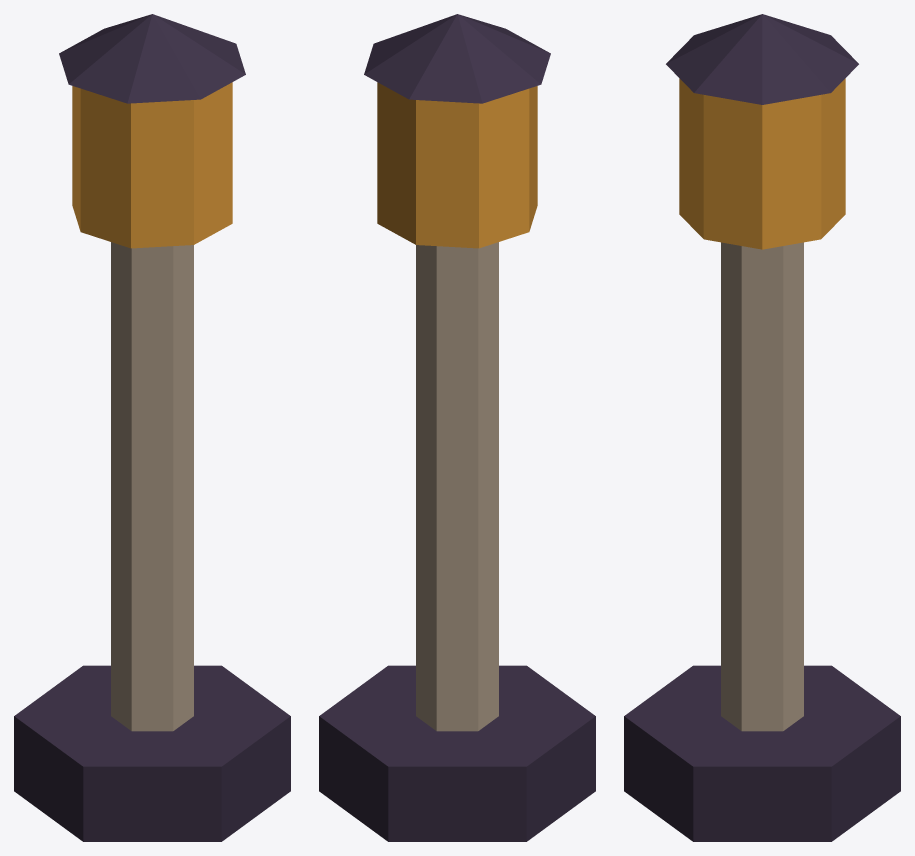
Rendered from warning-light.glb.
3 views of the same model, side by side, from view 1: azimuth 30°, elevation 25°; view 2: azimuth 150°, elevation 25°; view 3: azimuth 270°, elevation 25° (orthographic).
Visible parts, largest first — view 1: factory-warning-light; view 2: factory-warning-light; view 3: factory-warning-light.
Boxes of the visible parts, left/top/right/bottom form: factory-warning-light: left=14, top=14, right=290, bottom=841; factory-warning-light: left=319, top=14, right=595, bottom=841; factory-warning-light: left=624, top=14, right=900, bottom=841.
Size of the model in its own units: 0.1732 by 0.62 by 0.2.
